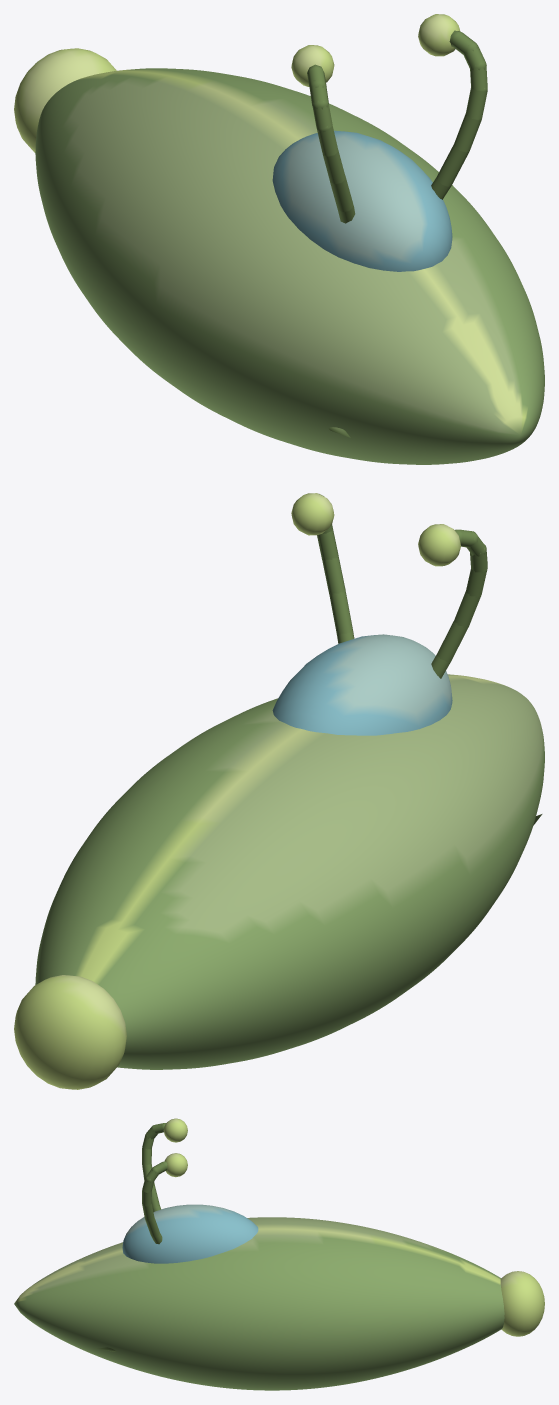
File: seedpod-starfighter.obj
3 renders of one model, top to bottom at view 1: azimuth 30°, elevation 25°; view 2: azimuth 150°, elevation 25°; view 3: azimuth 270°, elevation 25°, orthographic. The views are drawn at different scales.
Parts seen in each view (by area): view 1: starfighter; view 2: starfighter; view 3: starfighter.
Part boxes in pixels (box(x1,y1,x2,y2)): starfighter: box(14, 14, 544, 464); starfighter: box(14, 493, 544, 1089); starfighter: box(14, 1118, 544, 1390).
Size of the model in its own units: 68 by 87.9 by 175.
